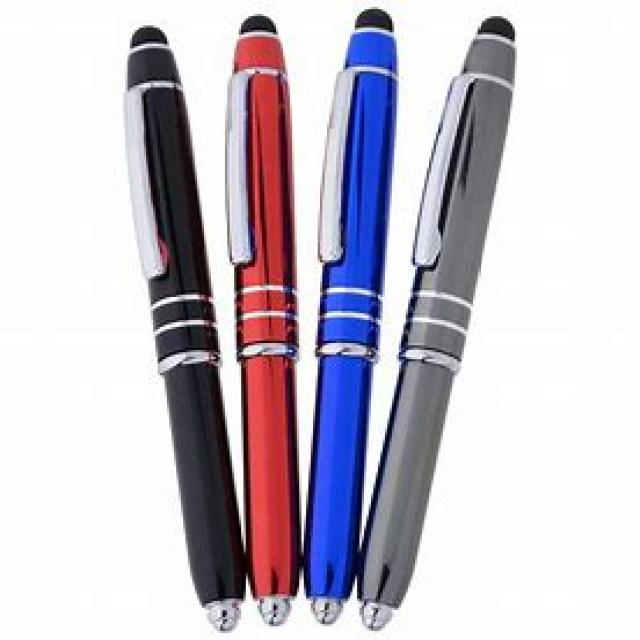pen: (125, 5, 517, 628)
